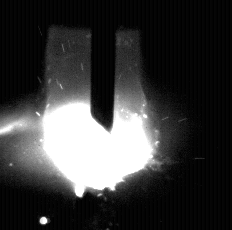arame: (92, 0, 116, 134)
poca: (42, 0, 151, 230)
